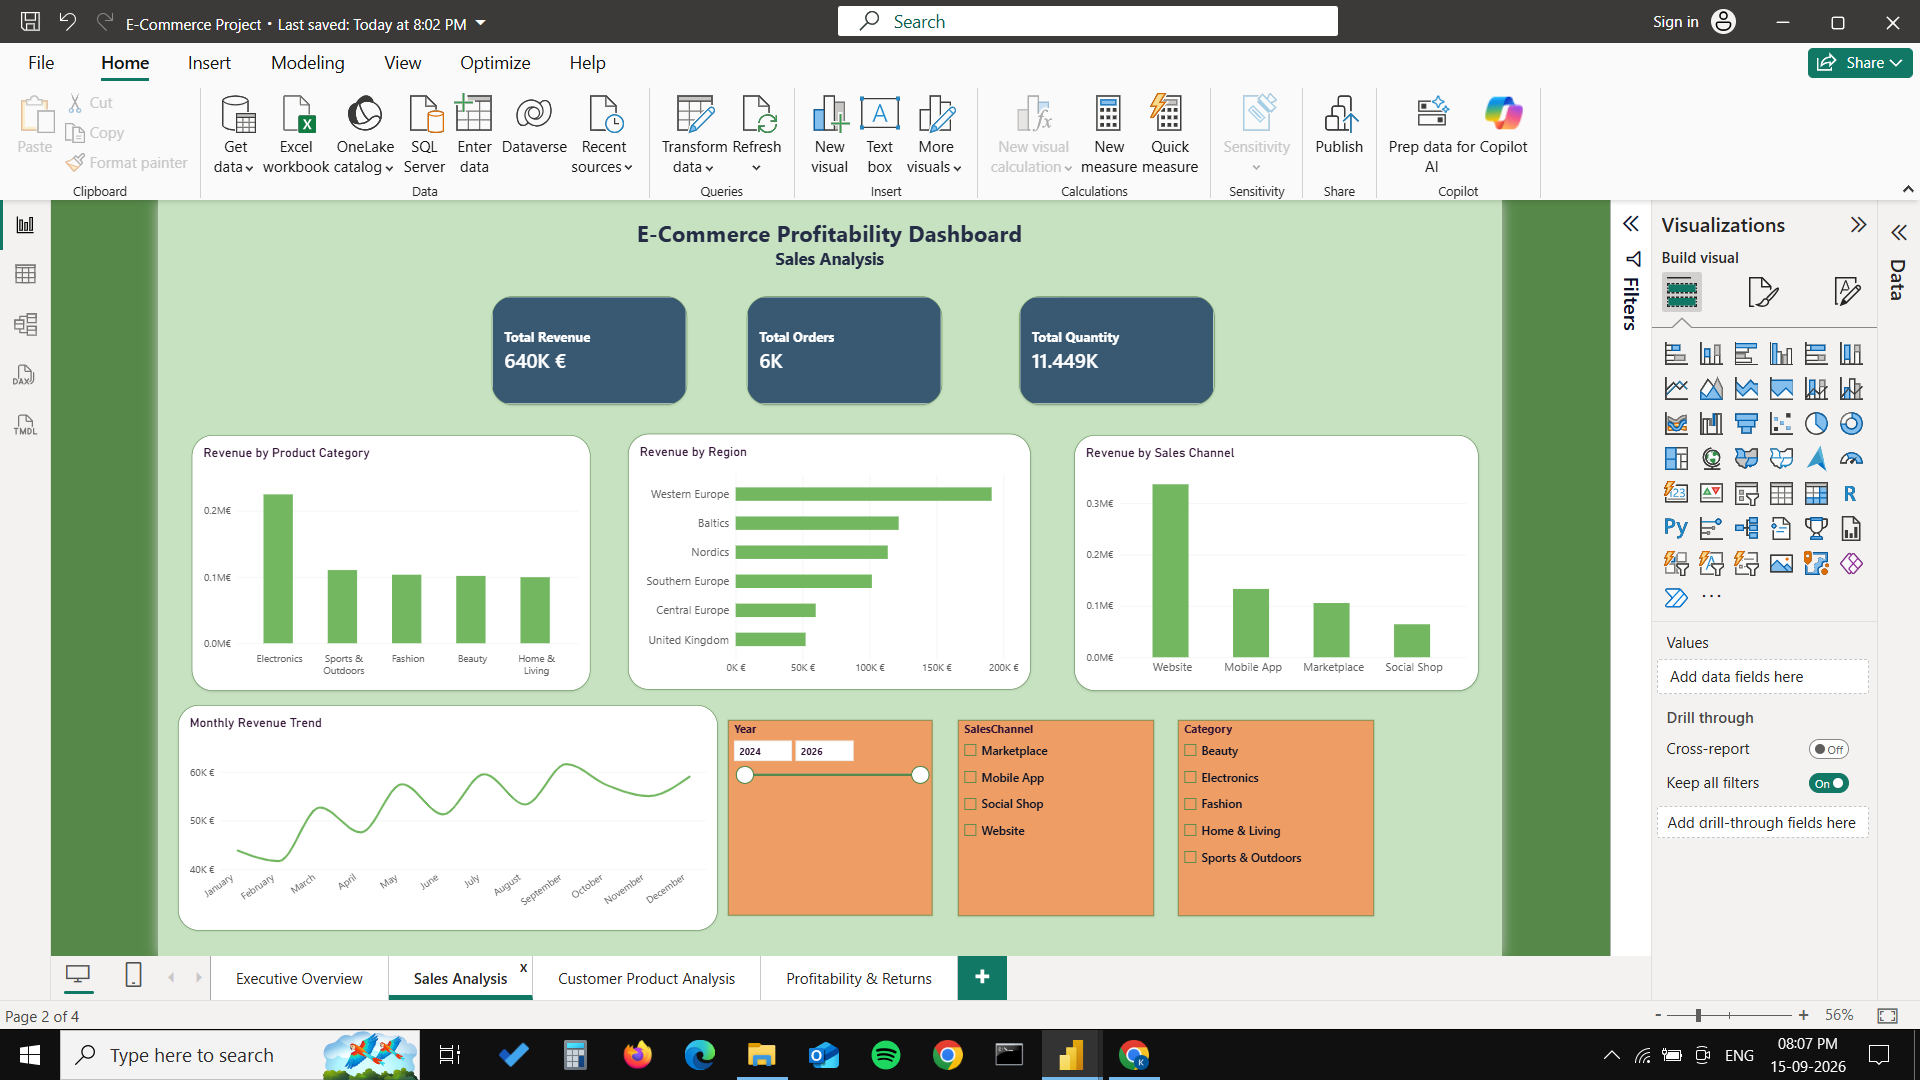

Layout of this report page (visuals, bound fields, positions):
{"tool":"powerbi","page":{"name":"Sales Analysis","canvas":[1920,1080],"ordinal":1},"visuals":[{"type":"cardVisual","fields":{"Data":["tblFactOrderLine.Total Revenue"]},"box":[477.6,136.7,279.6,155.1],"z":0},{"type":"cardVisual","fields":{"Data":["tblFactOrderLine.Total Orders"]},"box":[840.8,136.7,279.6,155.1],"z":1000},{"type":"cardVisual","fields":{"Data":["tblFactOrderLine.Total Quantity"]},"box":[1230.6,136.7,279.6,155.1],"z":2000},{"type":"lineChart","title":"Monthly Revenue Trend","fields":{"Category":["tblDimDate.Month"],"Y":["tblFactOrderLine.Total Revenue"]},"box":[27.9,720.6,771.4,322.4],"z":3000},{"type":"clusteredColumnChart","title":"Revenue by Sales Channel","fields":{"Category":["tblDimSalesChannel.SalesChannel"],"Y":["tblFactOrderLine.Total Revenue"]},"box":[1308.9,335.1,577.6,365.3],"z":4000},{"type":"clusteredBarChart","title":"Revenue by Region","fields":{"Category":["tblDimGeography.Region"],"Y":["tblFactOrderLine.Total Revenue"]},"box":[671.4,334.7,575.5,365.3],"z":5000},{"type":"clusteredColumnChart","title":"Revenue by Product Category","fields":{"Category":["tblDimProduct.Category"],"Y":["tblFactOrderLine.Total Revenue"]},"box":[48.4,335.1,569.4,365.3],"z":6000},{"type":"slicer","fields":{"Values":["tblDimDate.Year"]},"box":[814.3,742.9,291.8,279.6],"z":7000},{"type":"slicer","fields":{"Values":["tblDimProduct.Category"]},"box":[1457.1,742.9,280,280],"z":8000},{"type":"slicer","fields":{"Values":["tblDimSalesChannel.SalesChannel"]},"box":[1142.9,742.9,280,280],"z":9000},{"type":"textbox","box":[633.9,25,651,124.5],"z":10000}]}

Visuals, with their boxes on the page's 1920x1080 design canvas (x1, y1, x2, y2). These are canvas units, not pixel positions in the 1920x1080 screenshot, which may show the page scaled, cropped or inside an application window:
cardVisual - tblFactOrderLine.Total Revenue: left=478, top=137, right=757, bottom=292
cardVisual - tblFactOrderLine.Total Orders: left=841, top=137, right=1120, bottom=292
cardVisual - tblFactOrderLine.Total Quantity: left=1231, top=137, right=1510, bottom=292
"Monthly Revenue Trend" lineChart: left=28, top=721, right=799, bottom=1043
"Revenue by Sales Channel" clusteredColumnChart: left=1309, top=335, right=1886, bottom=700
"Revenue by Region" clusteredBarChart: left=671, top=335, right=1247, bottom=700
"Revenue by Product Category" clusteredColumnChart: left=48, top=335, right=618, bottom=700
slicer - tblDimDate.Year: left=814, top=743, right=1106, bottom=1022
slicer - tblDimProduct.Category: left=1457, top=743, right=1737, bottom=1023
slicer - tblDimSalesChannel.SalesChannel: left=1143, top=743, right=1423, bottom=1023
textbox: left=634, top=25, right=1285, bottom=150
